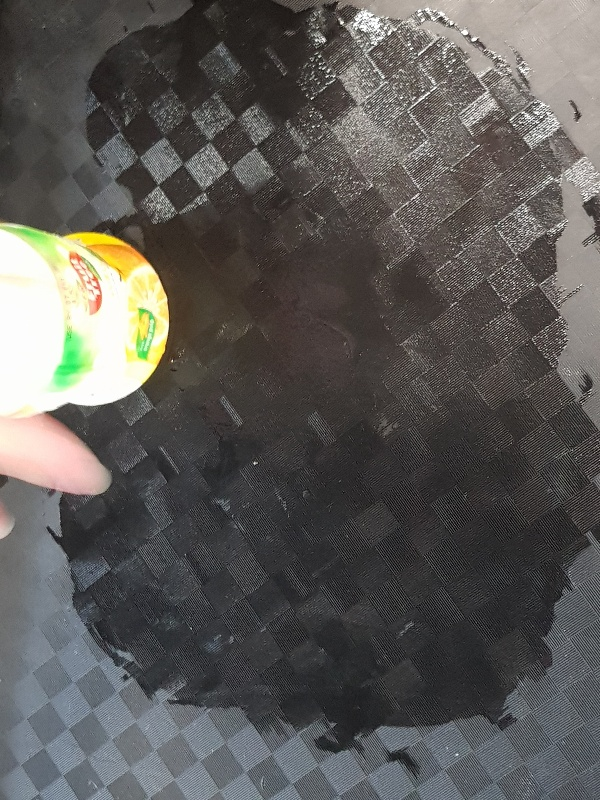Fruit Tree Yuzu Mixed Juice Drink: (1, 218, 169, 418)
